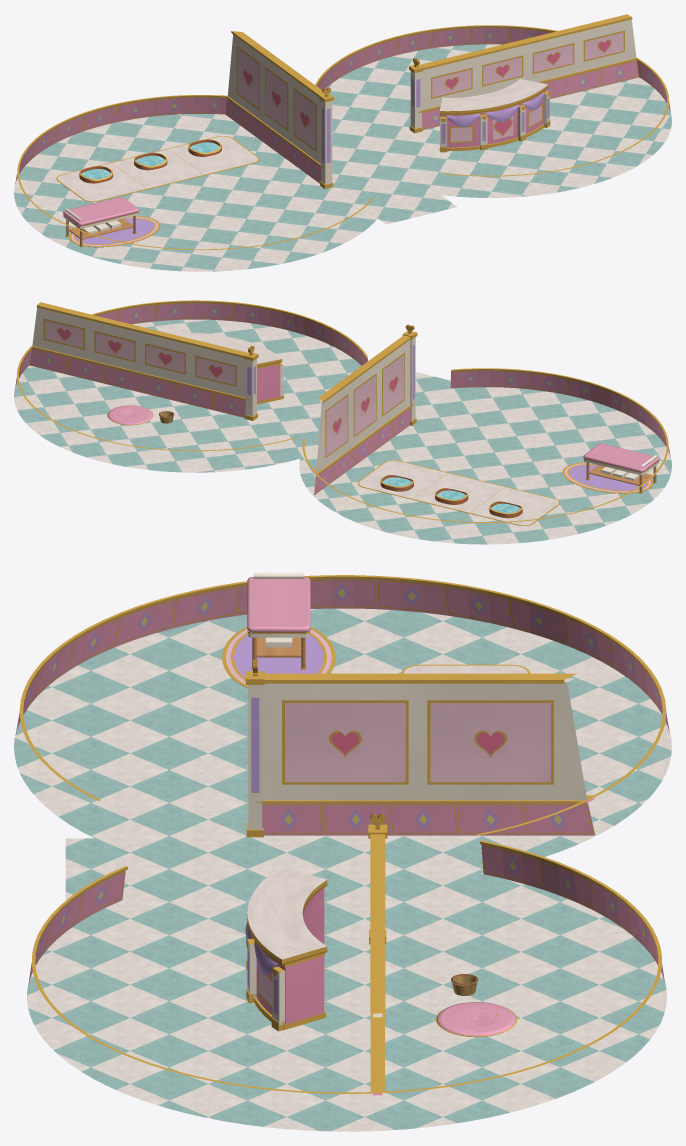
The model's file is spa_interior.glb.
The picture shows the model from 3 angles, top to bottom: view 1: azimuth 30°, elevation 25°; view 2: azimuth 150°, elevation 25°; view 3: azimuth 270°, elevation 25°; orthographic projection. The views are drawn at different scales.
Visible parts, largest first — view 1: spa_interior; view 2: spa_interior; view 3: spa_interior.
Boxes of the visible parts, x1,y1,x2,y2 form: spa_interior: (14,14,671,271); spa_interior: (14,300,671,544); spa_interior: (14,573,671,1131).
Size of the model in its own units: 15.67 by 2.41 by 8.33.
1 material, 1 textured.
